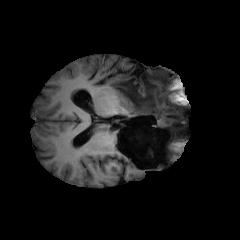glioma: (98, 72, 179, 146)
